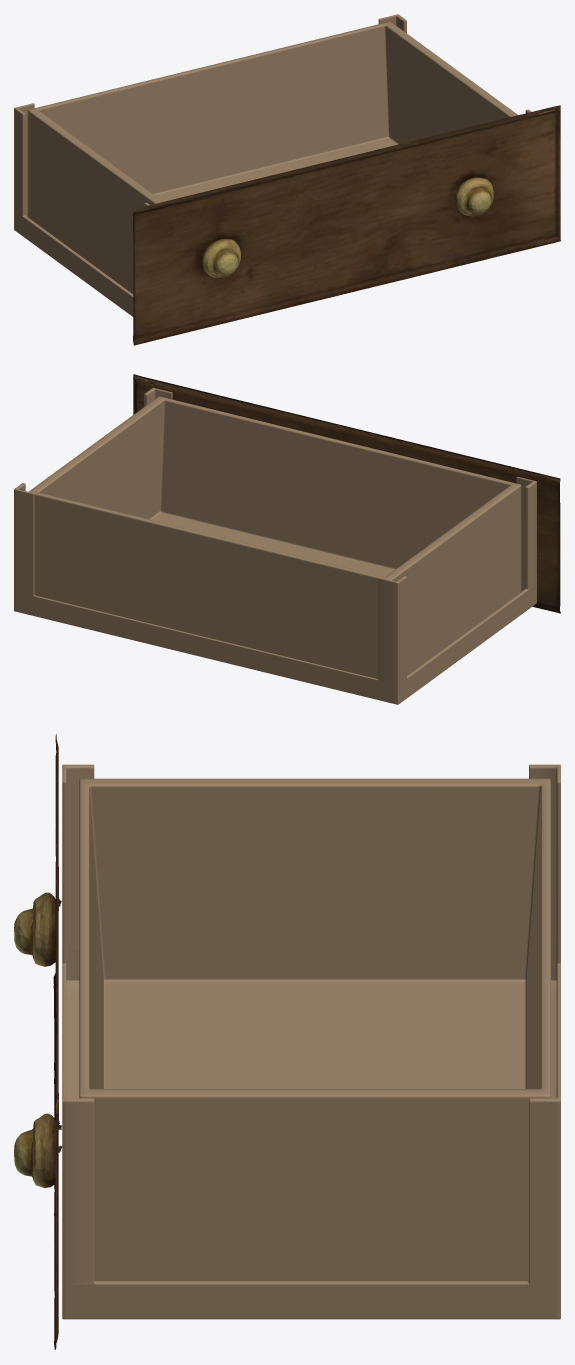
File: drawer_bottom.glb
3 renders of one model, top to bottom at view 1: azimuth 30°, elevation 25°; view 2: azimuth 150°, elevation 25°; view 3: azimuth 270°, elevation 25°, orthographic. The views are drawn at different scales.
Visible parts, largest first — view 1: prefab_drawer_body_3, source_front_cap_0; view 2: prefab_drawer_body_3, source_front_cap_0; view 3: prefab_drawer_body_3, source_front_cap_0.
Part boxes in pixels (<box>): prefab_drawer_body_3: <box>14,14,531,316</box>; source_front_cap_0: <box>133,105,560,345</box>; prefab_drawer_body_3: <box>14,387,536,704</box>; source_front_cap_0: <box>133,374,560,613</box>; prefab_drawer_body_3: <box>62,764,560,1319</box>; source_front_cap_0: <box>14,734,61,1349</box>.
Bounding box in the file's own units: 0.5889 × 0.1788 × 0.3642.
Materials: 2 (1 with a texture image).
